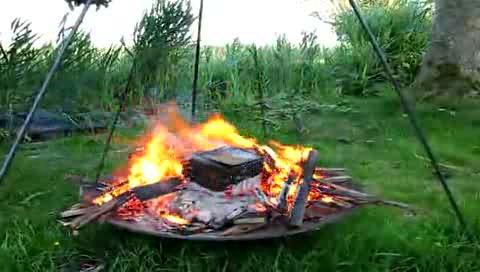fire: (97, 78, 322, 219)
